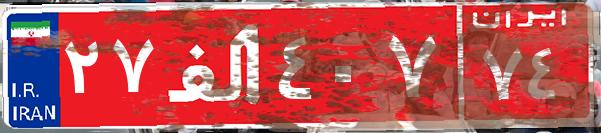0: (330, 28, 385, 110)
2: (57, 26, 110, 107)
4: (273, 28, 330, 110), (525, 38, 570, 115)
7: (385, 28, 445, 110), (475, 38, 525, 113), (110, 28, 158, 105)
الف: (158, 15, 273, 115)
